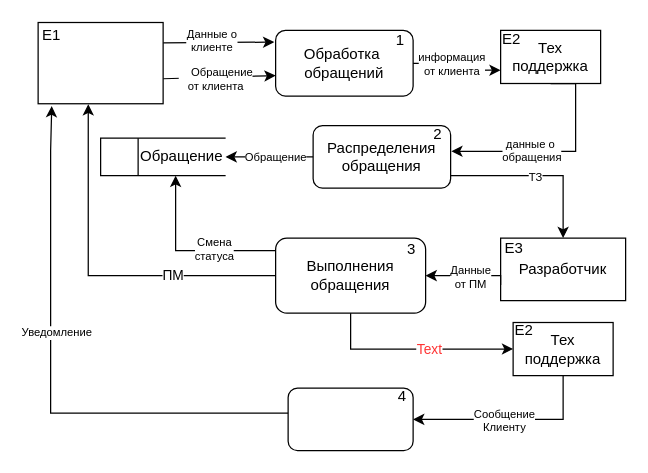
Some shapes in this 648 by 473 pixel diagram are drawn without their labels. The box of each missing label's shape, as (x1, y1, x2, y2) in pixels:
D1: (99, 137, 226, 176)
Клиент: (37, 21, 163, 104)
Оповещение: (287, 387, 413, 451)
